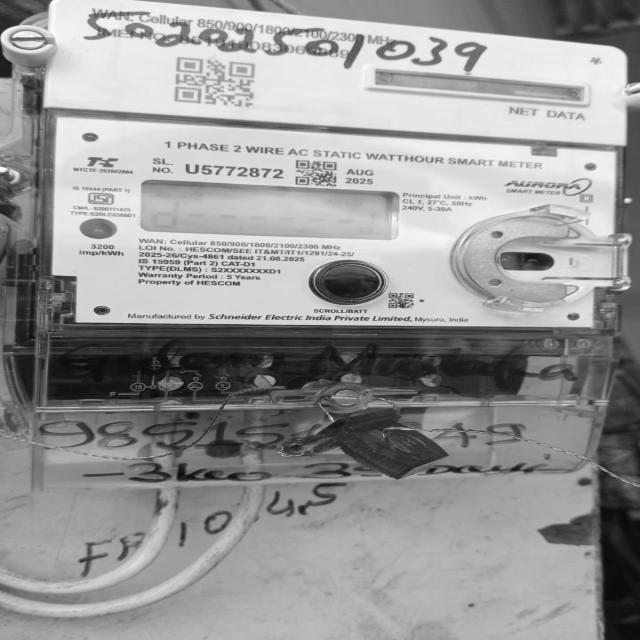meter: (41, 0, 640, 329)
